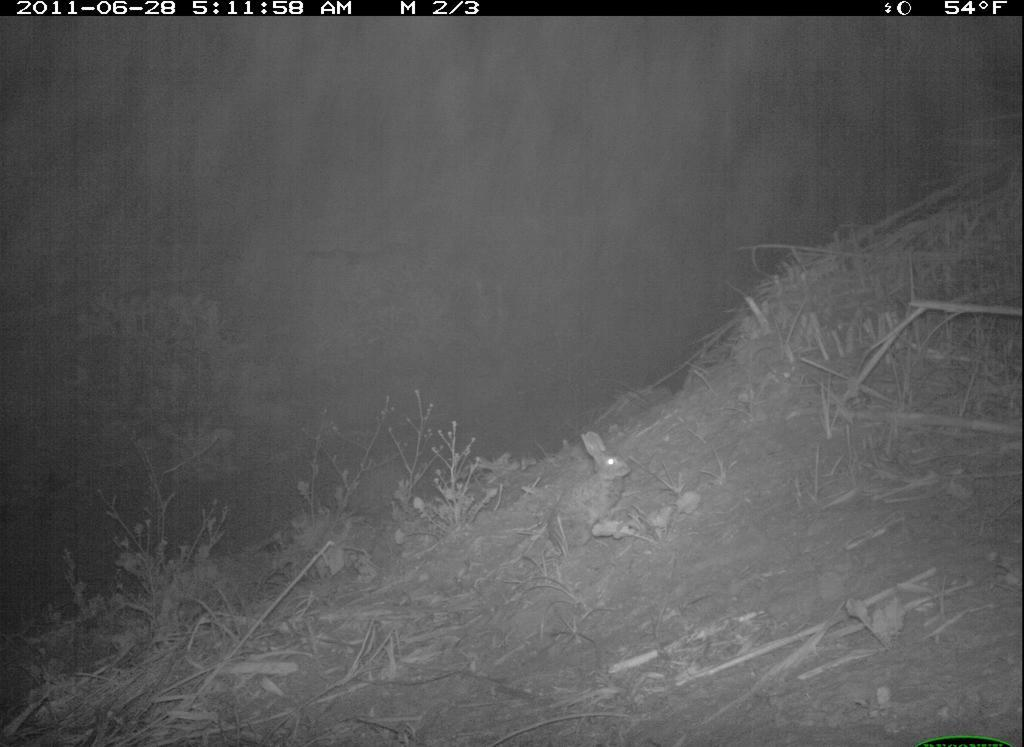rabbit: (538, 423, 634, 560)
